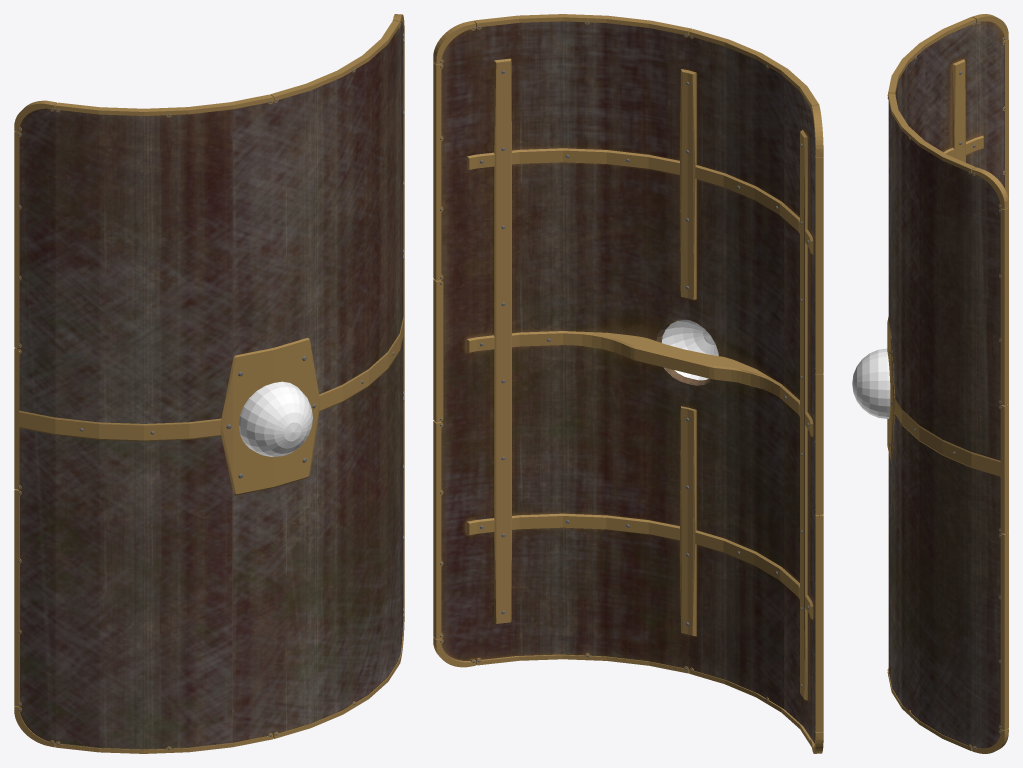
File: Shield.fbx
3 views of the same model, side by side, from view 1: azimuth 30°, elevation 25°; view 2: azimuth 150°, elevation 25°; view 3: azimuth 270°, elevation 25° (orthographic). The views are drawn at different scales.
Parts seen in each view (by area): view 1: Base, Metal, Globe; view 2: Base, Metal, Globe, Rivets; view 3: Base, Metal, Globe.
Part boxes in pixels (bbox=[...]): Base: bbox=[16, 21, 403, 749]; Metal: bbox=[14, 14, 404, 753]; Globe: bbox=[238, 381, 312, 456]; Base: bbox=[435, 21, 819, 743]; Metal: bbox=[433, 14, 823, 753]; Globe: bbox=[661, 319, 718, 380]; Rivets: bbox=[440, 21, 815, 745]; Base: bbox=[888, 21, 1006, 748]; Metal: bbox=[887, 14, 1008, 753]; Globe: bbox=[852, 348, 890, 418].
Bounding box in the file's own units: 1.27 × 2 × 0.4881.
